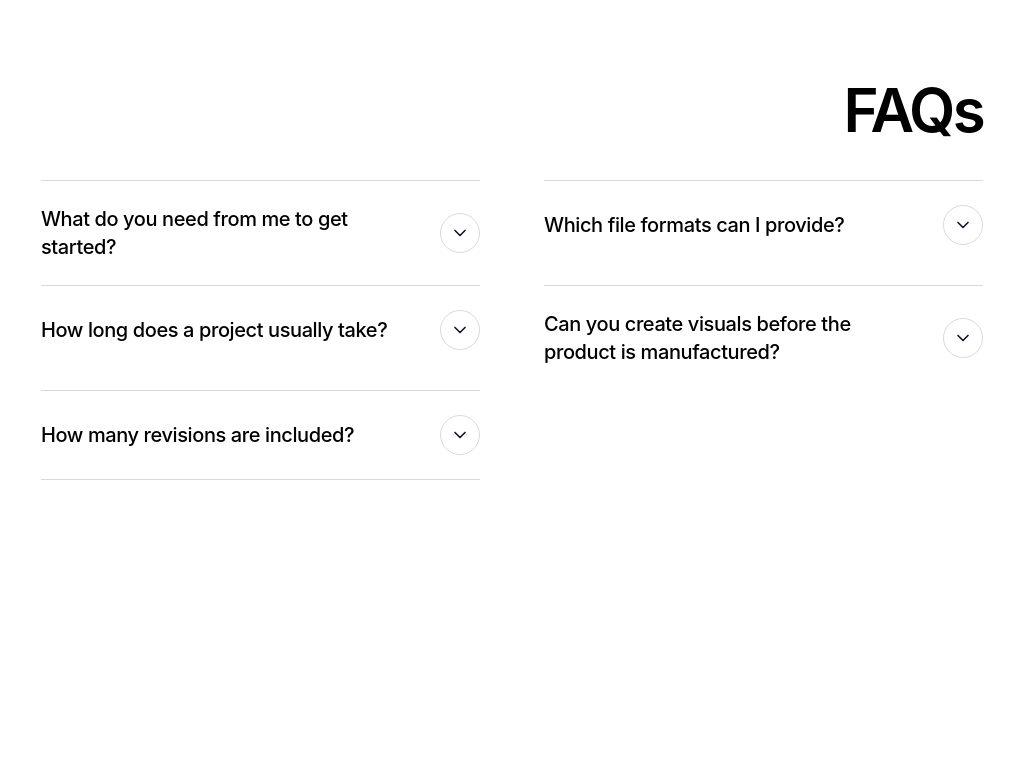
Faq › renders and toggles FAQ answers
Click the button "Which file formats can I provide?" at [764, 225], box 544,181 -> 983,269
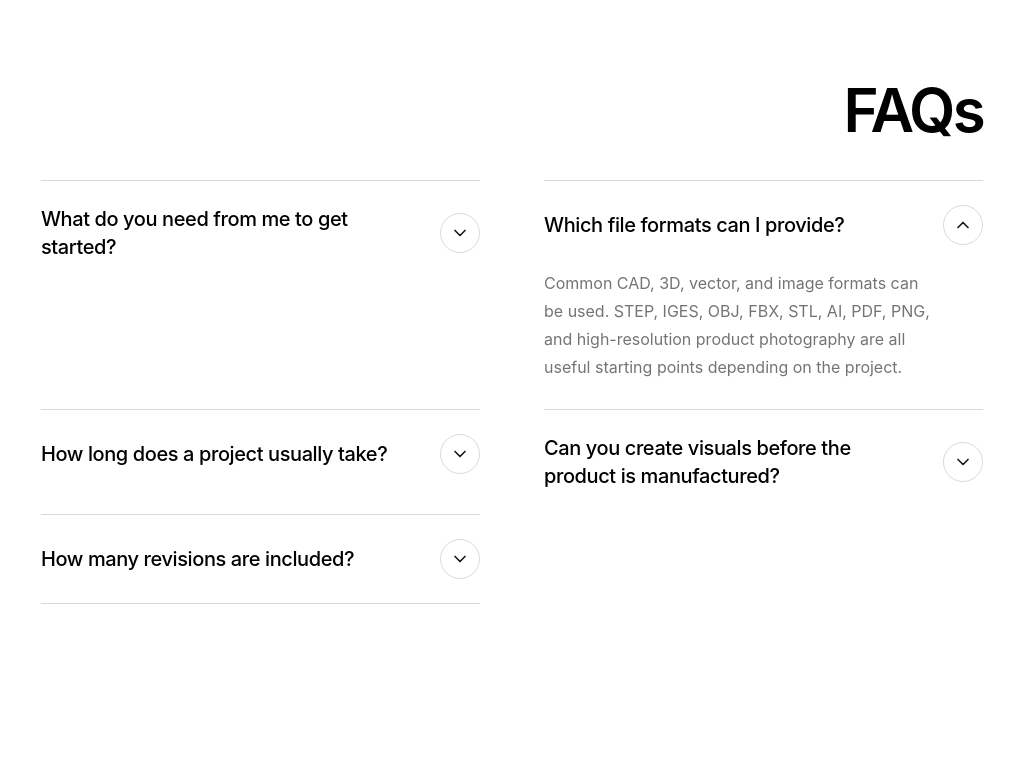
Now the button "Which file formats can I provide?" is expanded, box 544,181 -> 983,269
